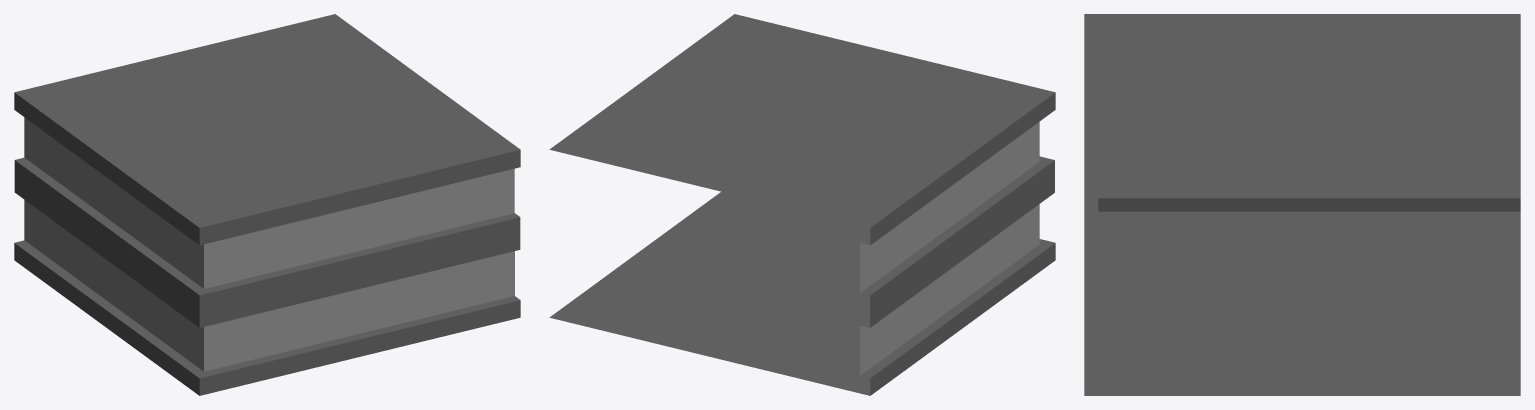
File: Wall_25_Corner.FBX
3 views of the same model, side by side, from view 1: azimuth 30°, elevation 25°; view 2: azimuth 150°, elevation 25°; view 3: azimuth 270°, elevation 25° (orthographic). The views are drawn at different scales.
Visible parts, largest first — view 1: Wall_25_Corner_LOD0; view 2: Wall_25_Corner_LOD0; view 3: Wall_25_Corner_LOD0.
Boxes of the visible parts, x1,y1,x2,y2 form: Wall_25_Corner_LOD0: (14,14,520,395); Wall_25_Corner_LOD0: (549,14,1055,395); Wall_25_Corner_LOD0: (1084,14,1520,395).
Size of what is drawn, in the model's own units: 180 by 89.99 by 180.
